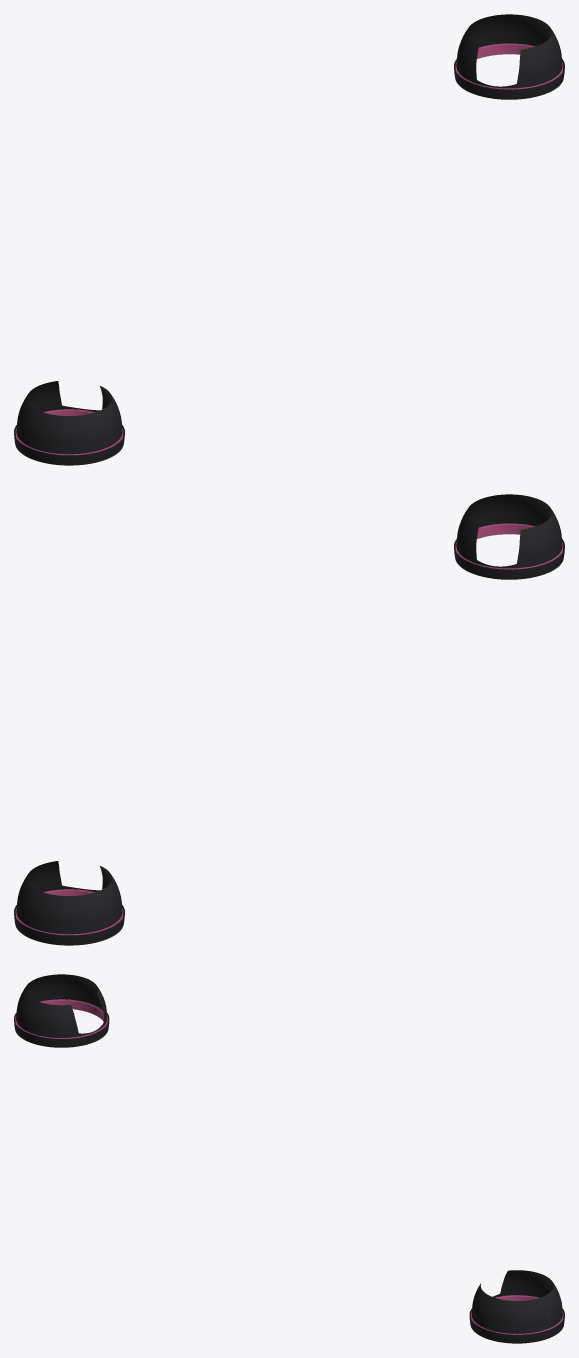
File: mir250-lidars.dae
3 views of the same model, one above another, from view 1: azimuth 30°, elevation 25°; view 2: azimuth 210°, elevation 25°; view 3: azimuth 270°, elevation 25° (orthographic). The views are drawn at different scales.
Visible parts, largest first — view 1: lidars; view 2: lidars; view 3: lidars.
Part boxes in pixels (left/top/right/bottom): lidars: left=14, top=14, right=564, bottom=465; lidars: left=14, top=494, right=564, bottom=945; lidars: left=14, top=974, right=564, bottom=1343.
Bounding box in the file's own units: 0.7159 × 0.4959 × 0.0379.
